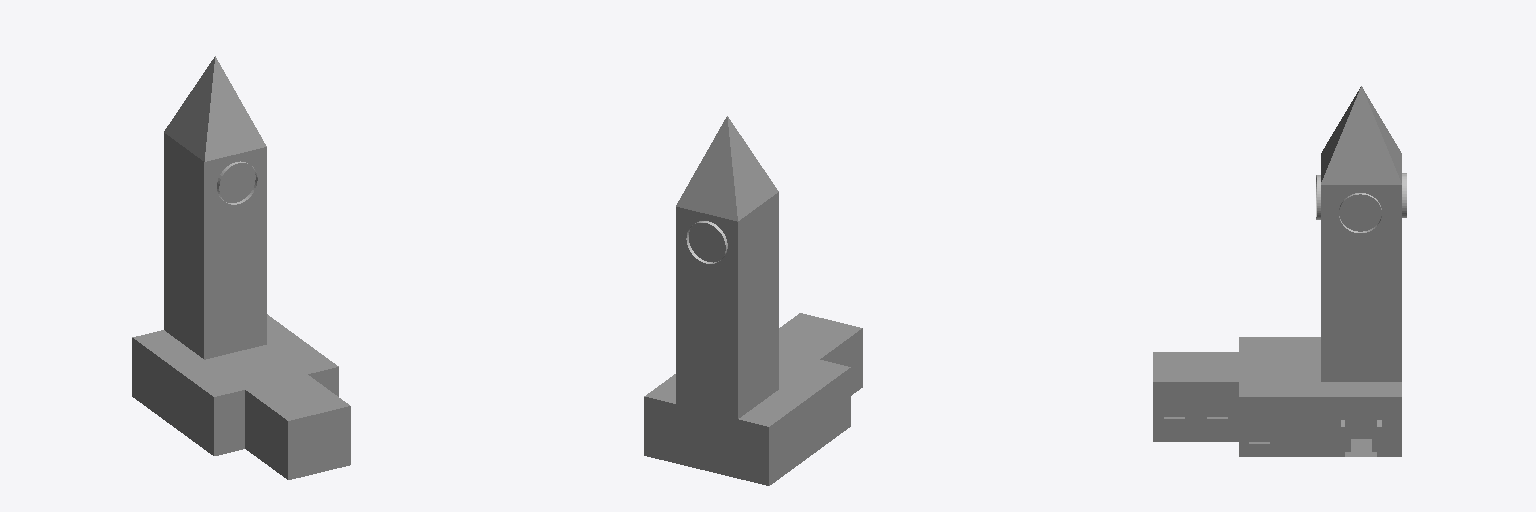
File: newChurch.obj
The picture shows the model from 3 angles: view 1: azimuth 30°, elevation 25°; view 2: azimuth 150°, elevation 25°; view 3: azimuth 270°, elevation 25°; orthographic projection.
Parts seen in each view (by area): view 1: Cube; view 2: Cube; view 3: Cube.
Boxes of the visible parts, box(x1,y1,x2,y2) form: Cube: box(132, 56, 350, 479); Cube: box(644, 116, 862, 485); Cube: box(1153, 86, 1401, 456).
Size of the model in its own units: 4.41 by 11.48 by 7.77.